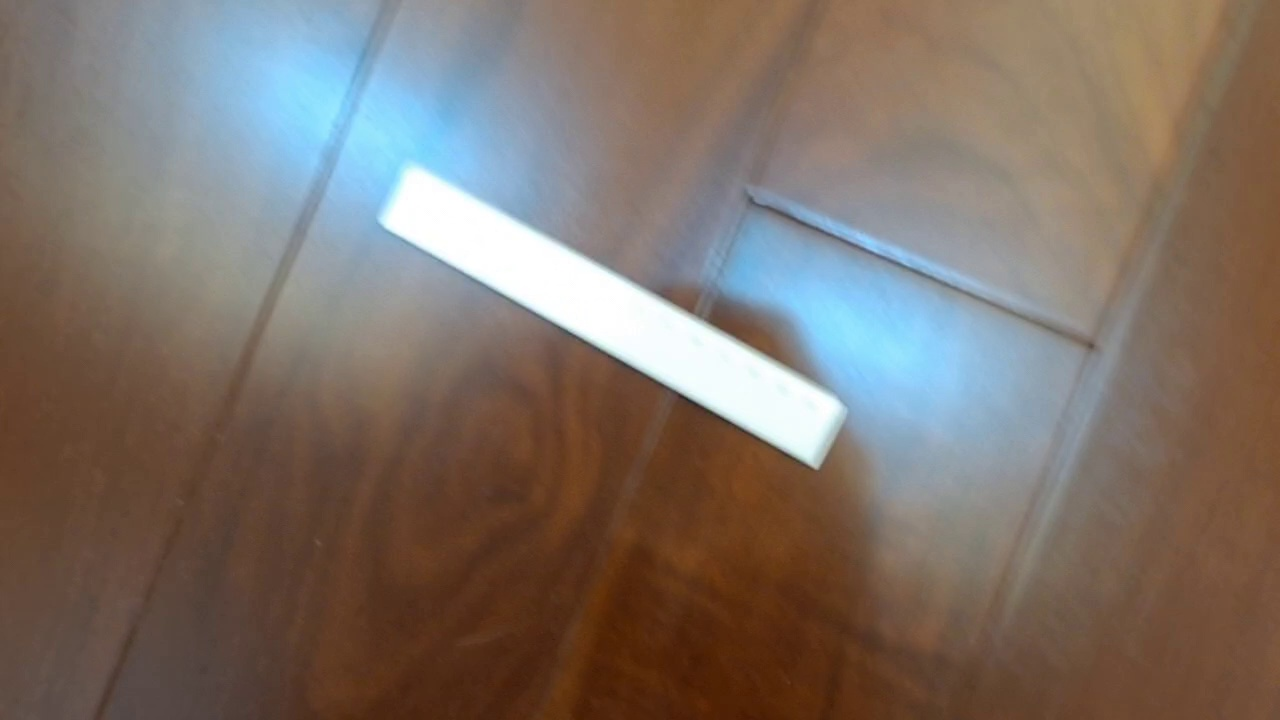ruler: (376, 159, 850, 472)
